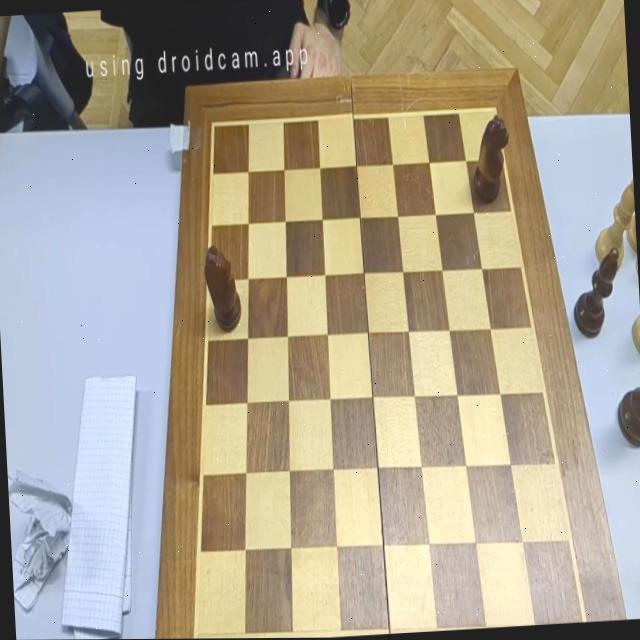black_knight: (470, 115, 512, 205), (203, 245, 243, 334)
